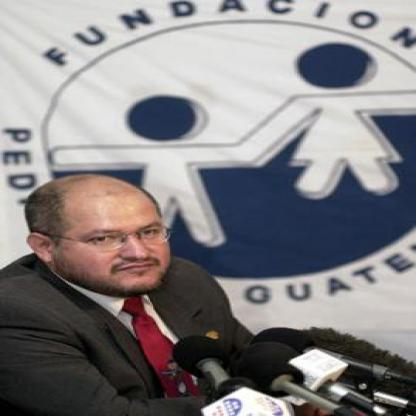face: (51, 176, 178, 298)
